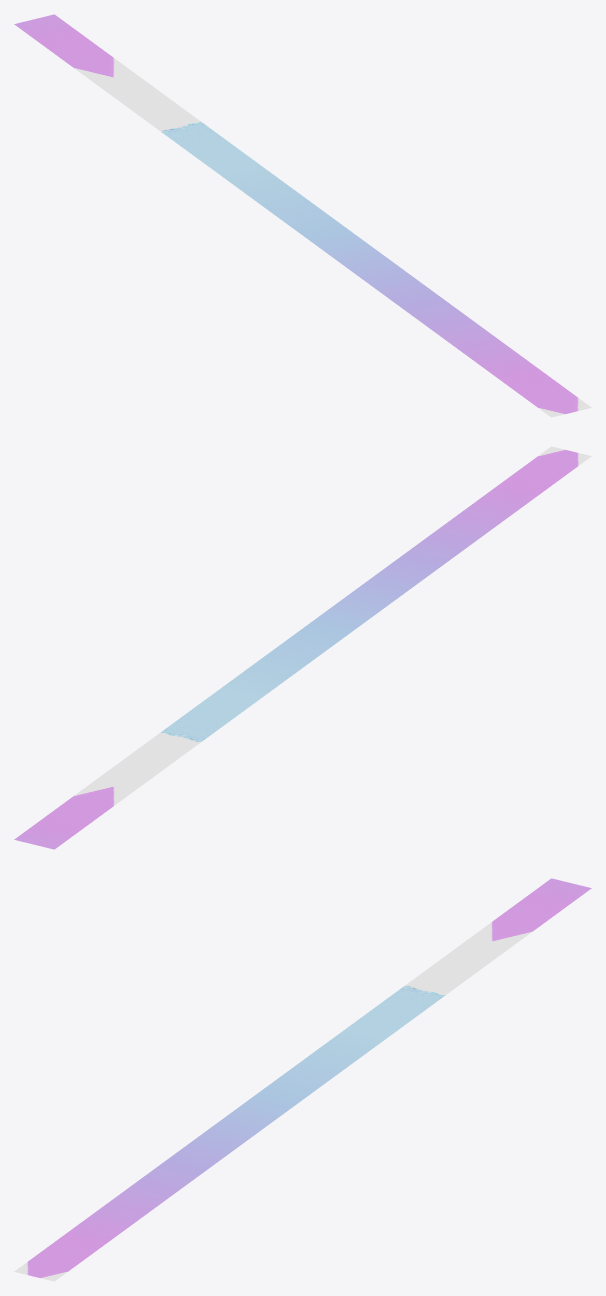
File: LococomtionLine_1_2_Tutorial.fbx
3 renders of one model, top to bottom at view 1: azimuth 30°, elevation 25°; view 2: azimuth 150°, elevation 25°; view 3: azimuth 330°, elevation 25°, orthographic.
Parts seen in each view (by area): view 1: LococomtionLine_1_2_Tutorial; view 2: LococomtionLine_1_2_Tutorial; view 3: LococomtionLine_1_2_Tutorial.
Part boxes in pixels (x1,y1,x2,y2): LococomtionLine_1_2_Tutorial: (14,14,591,417); LococomtionLine_1_2_Tutorial: (14,446,591,849); LococomtionLine_1_2_Tutorial: (14,878,591,1281).
Bounding box in the file's own units: 20 × 1.19e-07 × 460.
1 material, 1 textured.
